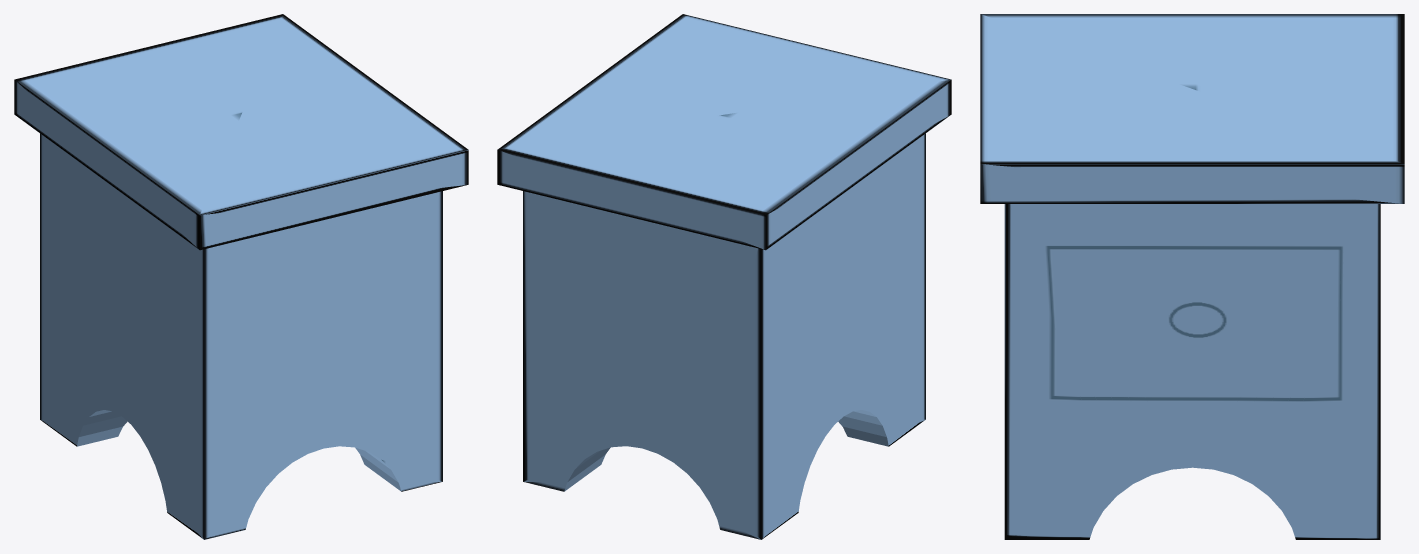
File: buro.obj
3 views of the same model, side by side, from view 1: azimuth 30°, elevation 25°; view 2: azimuth 150°, elevation 25°; view 3: azimuth 270°, elevation 25° (orthographic). The views are drawn at different scales.
Parts seen in each view (by area): view 1: Cubo.001, Cubo_Cubo.002; view 2: Cubo.001, Cubo_Cubo.002; view 3: Cubo.001, Cubo_Cubo.002.
Part boxes in pixels (left/top/right/bottom): Cubo.001: left=40, top=133, right=442, bottom=539; Cubo_Cubo.002: left=14, top=14, right=468, bottom=250; Cubo.001: left=523, top=133, right=925, bottom=539; Cubo_Cubo.002: left=497, top=14, right=951, bottom=250; Cubo.001: left=1004, top=204, right=1380, bottom=539; Cubo_Cubo.002: left=980, top=14, right=1404, bottom=203.
Size of the model in its own units: 0.3245 by 0.3878 by 0.3879.
